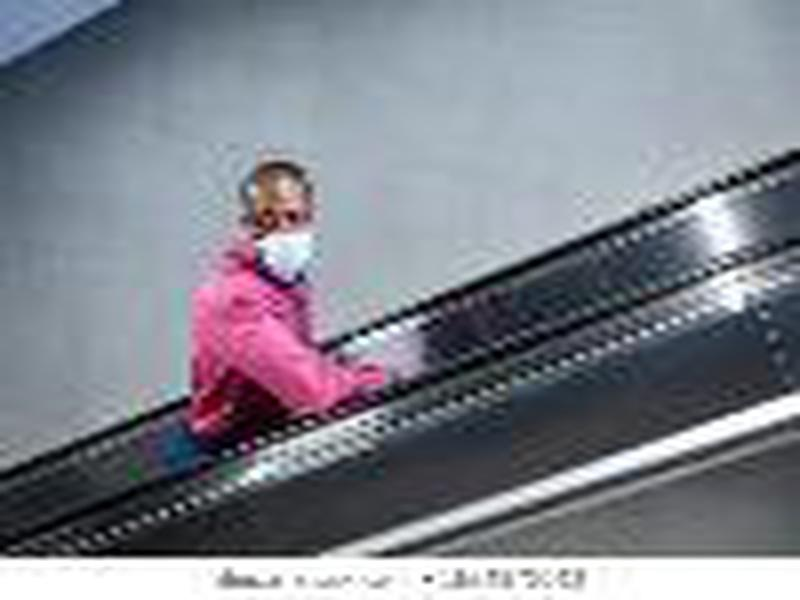with_mask: (231, 165, 320, 292)
